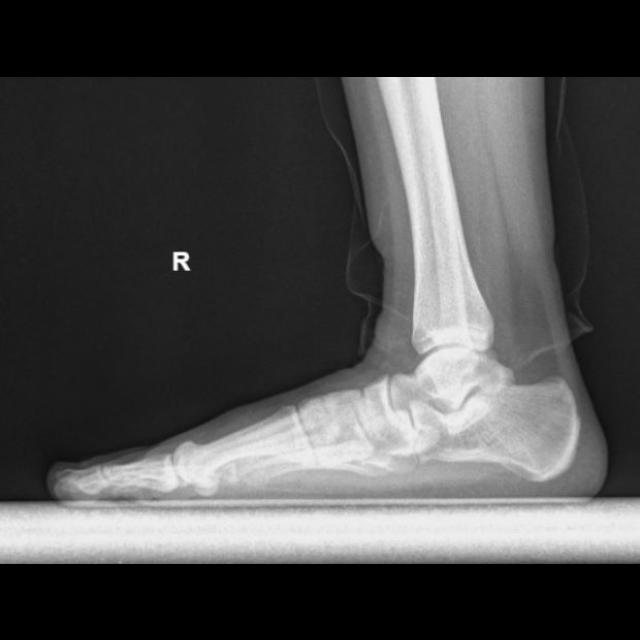a: (415, 374, 579, 481)
b: (364, 377, 441, 451)
c: (173, 403, 315, 486)
